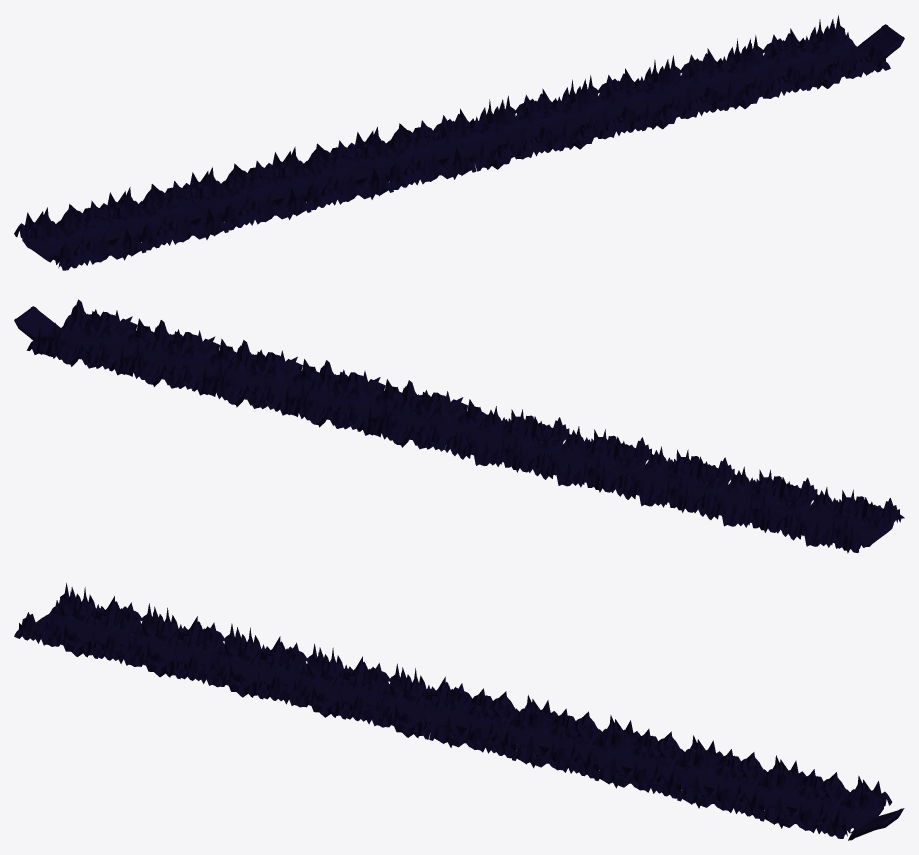
The model's file is road.glb.
3 views of the same model, one above another, from view 1: azimuth 30°, elevation 25°; view 2: azimuth 150°, elevation 25°; view 3: azimuth 330°, elevation 25° (orthographic).
Visible parts, largest first — view 1: Plane, Plane.001; view 2: Plane, Plane.001; view 3: Plane, Plane.001.
Boxes of the visible parts, x1=… form: Plane: x1=14, y1=15, x2=890, y2=270; Plane.001: x1=857, y1=24, x2=904, y2=74; Plane: x1=26, y1=299, x2=904, y2=553; Plane.001: x1=14, y1=306, x2=60, y2=356; Plane: x1=14, y1=583, x2=891, y2=838; Plane.001: x1=848, y1=808, x2=904, y2=840.
Bounding box in the file's own units: 163 × 7.56 × 17.5.
